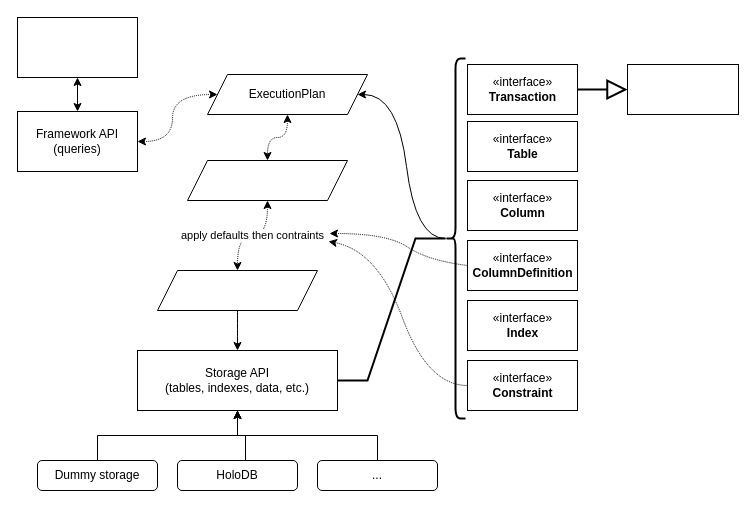
The diagram is 756 pixels wide and 508 high, and some of its shapes have lost their labels. The centre of each missing label's shape, as x and y in pixels:
Framework Messenger: the point at 77,47
HighLevelDiffSpec (UserDefinedUpdates): the point at 267,180
LowLevelDiffSpec (TableDiff - per table): the point at 237,290
«interface» StorageAccess(?): the point at 682,89
